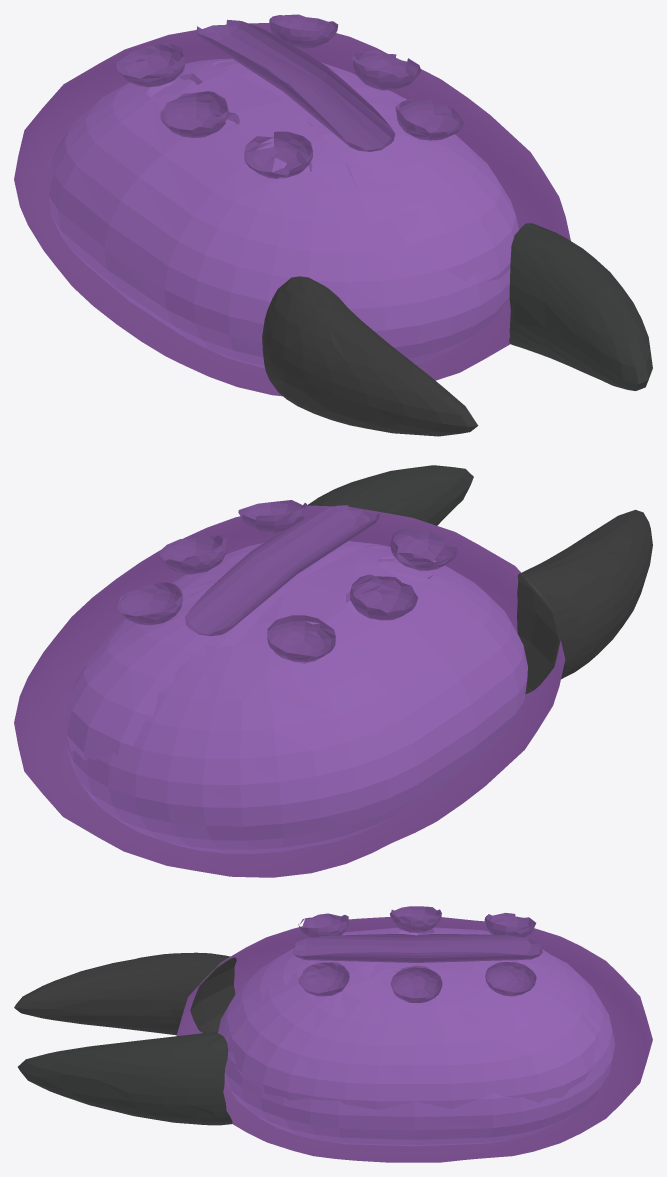
Rendered from beetle.glb.
3 renders of one model, top to bottom at view 1: azimuth 30°, elevation 25°; view 2: azimuth 150°, elevation 25°; view 3: azimuth 270°, elevation 25°, orthographic. The views are drawn at different scales.
Visible parts, largest first — view 1: Sphere, Sphere.004, Sphere.003, Sphere.005, Sphere.006; view 2: Sphere, Sphere.004, Sphere.003, Sphere.005, Sphere.006; view 3: Sphere.004, Sphere, Sphere.003, Sphere.006, Sphere.005.
Boxes of the visible parts, left/top/right/bottom form: Sphere: left=47, top=59, right=510, bottom=368; Sphere.004: left=14, top=23, right=570, bottom=396; Sphere.003: left=116, top=14, right=463, bottom=178; Sphere.005: left=262, top=276, right=478, bottom=436; Sphere.006: left=509, top=223, right=652, bottom=390; Sphere: left=66, top=541, right=527, bottom=853; Sphere.004: left=14, top=505, right=565, bottom=877; Sphere.003: left=117, top=500, right=457, bottom=662; Sphere.005: left=517, top=509, right=652, bottom=693; Sphere.006: left=307, top=465, right=473, bottom=525; Sphere.004: left=176, top=917, right=652, bottom=1162; Sphere: left=218, top=927, right=614, bottom=1146; Sphere.003: left=292, top=906, right=542, bottom=1002; Sphere.006: left=18, top=1032, right=232, bottom=1125; Sphere.005: left=14, top=952, right=236, bottom=1035.
Size of the model in its own units: 2.03 by 1.23 by 3.6.
